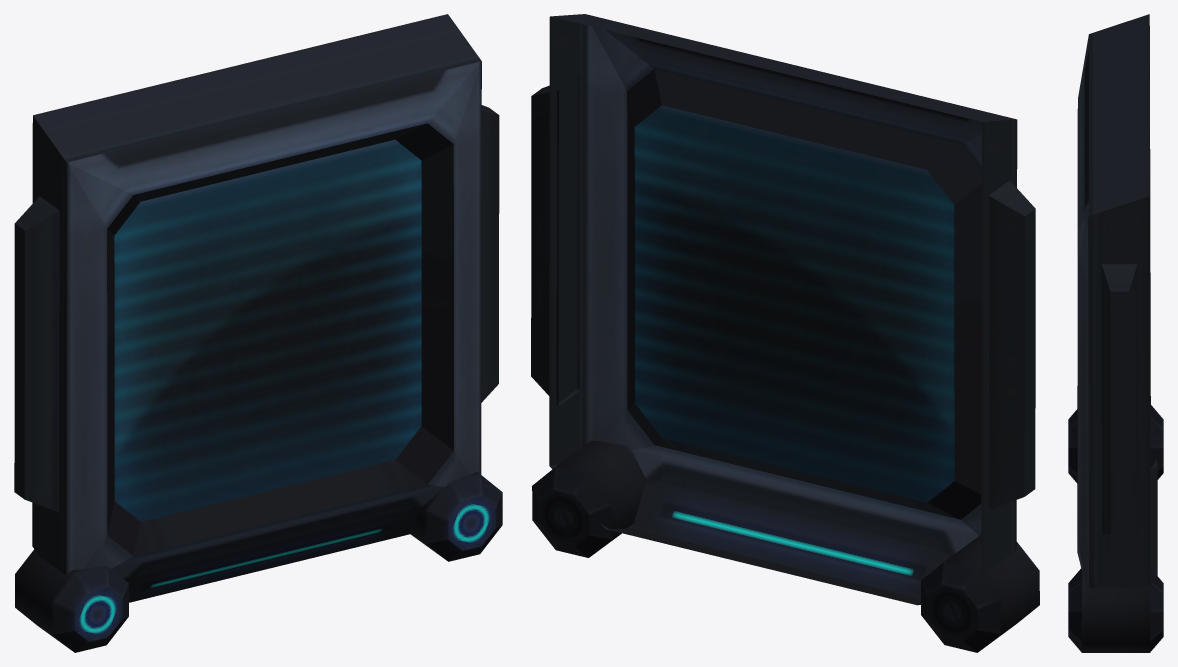
File: tsjj_ick001.FBX
The picture shows the model from 3 angles, left to right: view 1: azimuth 30°, elevation 25°; view 2: azimuth 150°, elevation 25°; view 3: azimuth 270°, elevation 25°; orthographic projection. The views are drawn at different scales.
Visible parts, largest first — view 1: tsjj_ick001; view 2: tsjj_ick001; view 3: tsjj_ick001.
Part boxes in pixels (x1=…): tsjj_ick001: x1=14, y1=14, x2=502, y2=652; tsjj_ick001: x1=531, y1=14, x2=1039, y2=652; tsjj_ick001: x1=1068, y1=14, x2=1163, y2=652.
Bounding box in the file's own units: 0.7256 × 0.7477 × 0.141.
